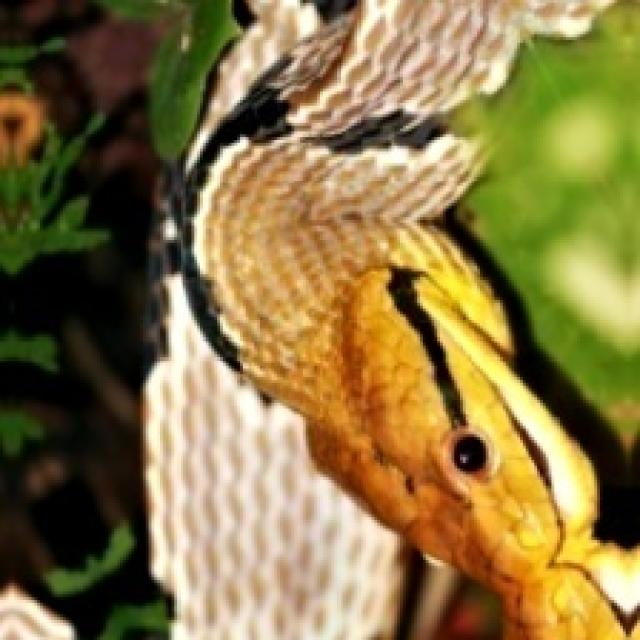dog-toothed cat snake: (146, 0, 637, 637)
